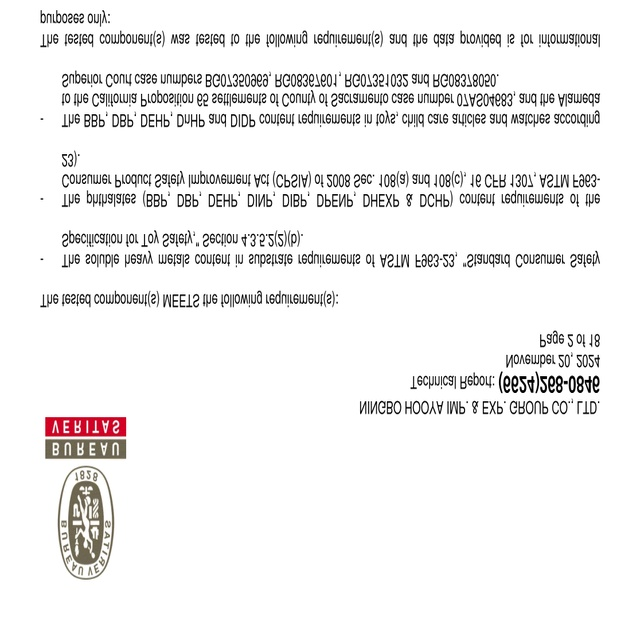bureau_veritas: (42, 412, 129, 587)
